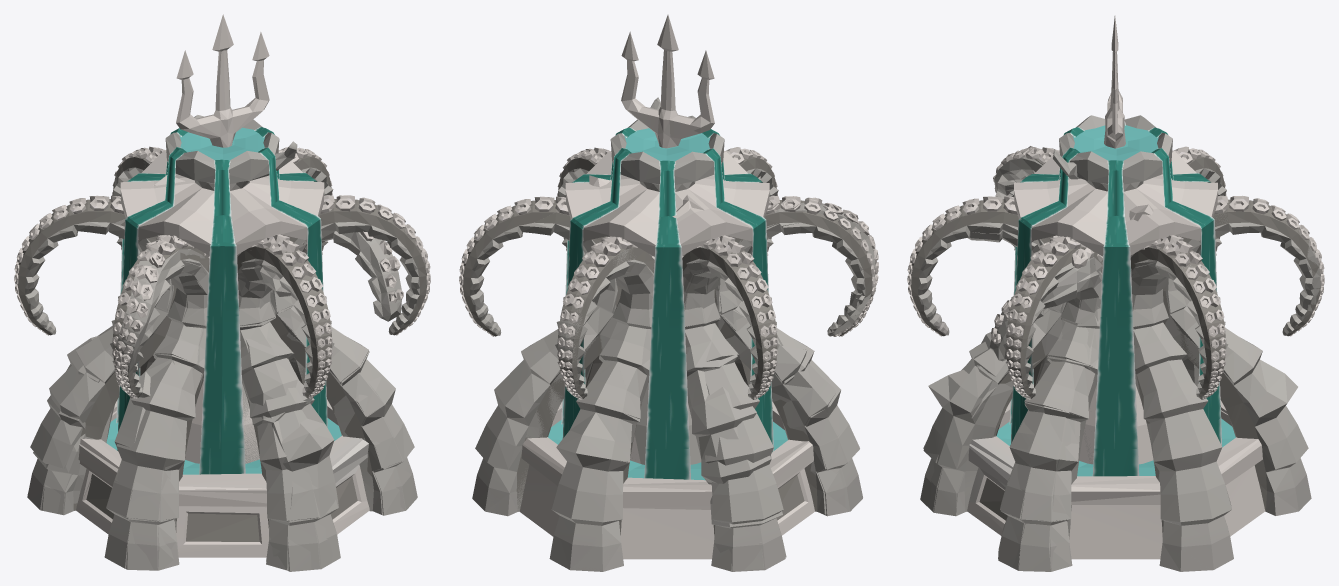
File: seaKingFountain.fbx
3 renders of one model, left to right at view 1: azimuth 30°, elevation 25°; view 2: azimuth 150°, elevation 25°; view 3: azimuth 270°, elevation 25°, orthographic.
Visible parts, largest first — view 1: seaKingFountain, seaKingFountainDestroy, seaKingFountainWater, seaKingFountainTopDestroyed; view 2: seaKingFountain, seaKingFountainDestroy, seaKingFountainWater, seaKingFountainTopDestroyed; view 3: seaKingFountain, seaKingFountainDestroy, seaKingFountainWater, seaKingFountainTopDestroyed.
Part boxes in pixels (left/top/right/bottom): seaKingFountain: left=14, top=14, right=430, bottom=570; seaKingFountainDestroy: left=27, top=147, right=416, bottom=571; seaKingFountainWater: left=106, top=127, right=341, bottom=474; seaKingFountainTopDestroyed: left=153, top=141, right=297, bottom=188; seaKingFountain: left=459, top=14, right=875, bottom=571; seaKingFountainDestroy: left=475, top=176, right=878, bottom=571; seaKingFountainWater: left=548, top=127, right=787, bottom=480; seaKingFountainTopDestroyed: left=589, top=97, right=704, bottom=218; seaKingFountain: left=907, top=15, right=1324, bottom=571; seaKingFountainDestroy: left=920, top=146, right=1324, bottom=571; seaKingFountainWater: left=996, top=121, right=1235, bottom=476; seaKingFountainTopDestroyed: left=1053, top=149, right=1162, bottom=221.
Bounding box in the file's own units: 3.8 × 5.57 × 4.34.
3 materials, 2 textured.
